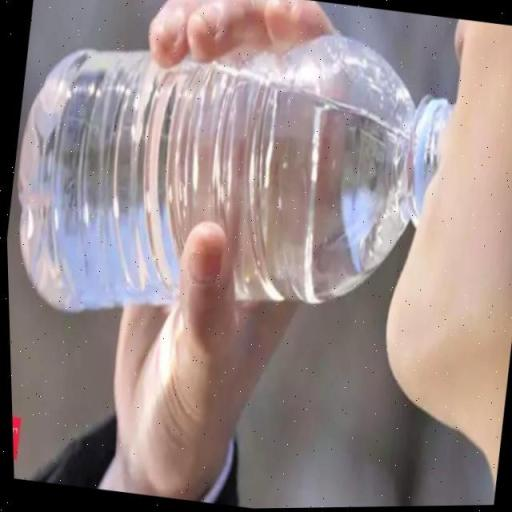plastic: (15, 35, 452, 316)
